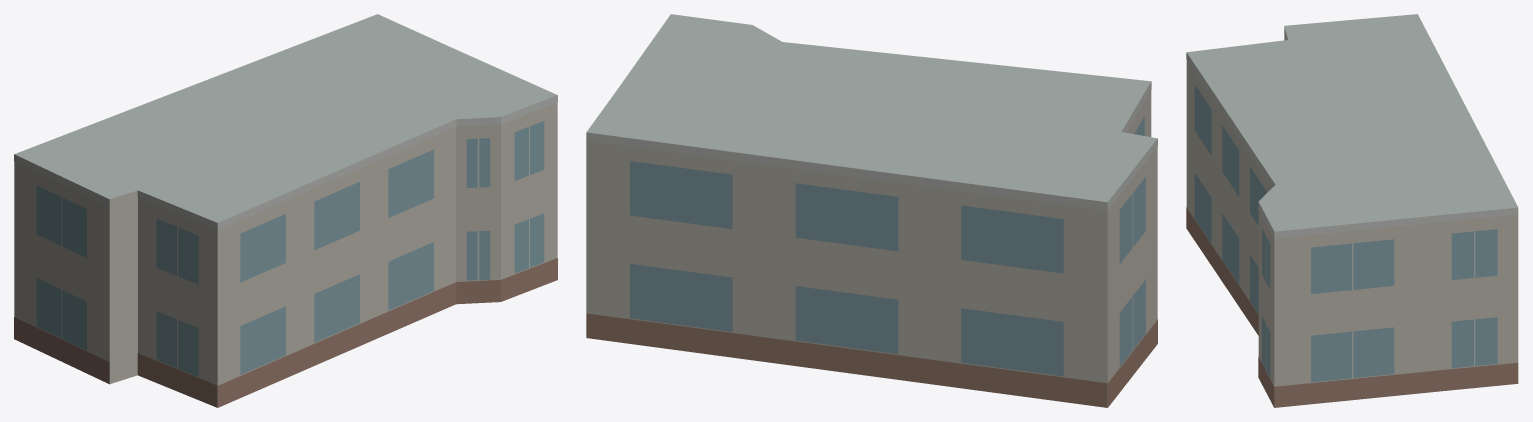
Rendered from survey-upis-32882376.glb.
3 renders of one model, left to right at view 1: azimuth 30°, elevation 25°; view 2: azimuth 150°, elevation 25°; view 3: azimuth 270°, elevation 25°, orthographic. The views are drawn at different scales.
Parts seen in each view (by area): view 1: survey-upis-32882376.tmp; view 2: survey-upis-32882376.tmp; view 3: survey-upis-32882376.tmp.
Boxes of the visible parts, x1,y1,x2,y2 form: survey-upis-32882376.tmp: (14,14,557,407); survey-upis-32882376.tmp: (586,14,1157,407); survey-upis-32882376.tmp: (1186,14,1518,407).
Size of the model in its own units: 16.17 by 6.1 by 10.42.
